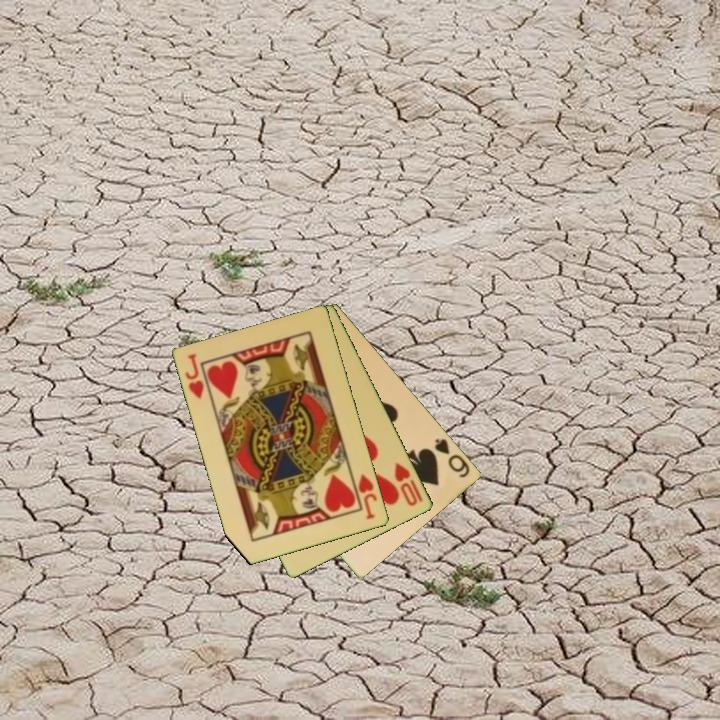10h: (391, 459, 421, 509)
6s: (432, 435, 473, 481)
Jh: (348, 470, 380, 522), (182, 350, 207, 402)
